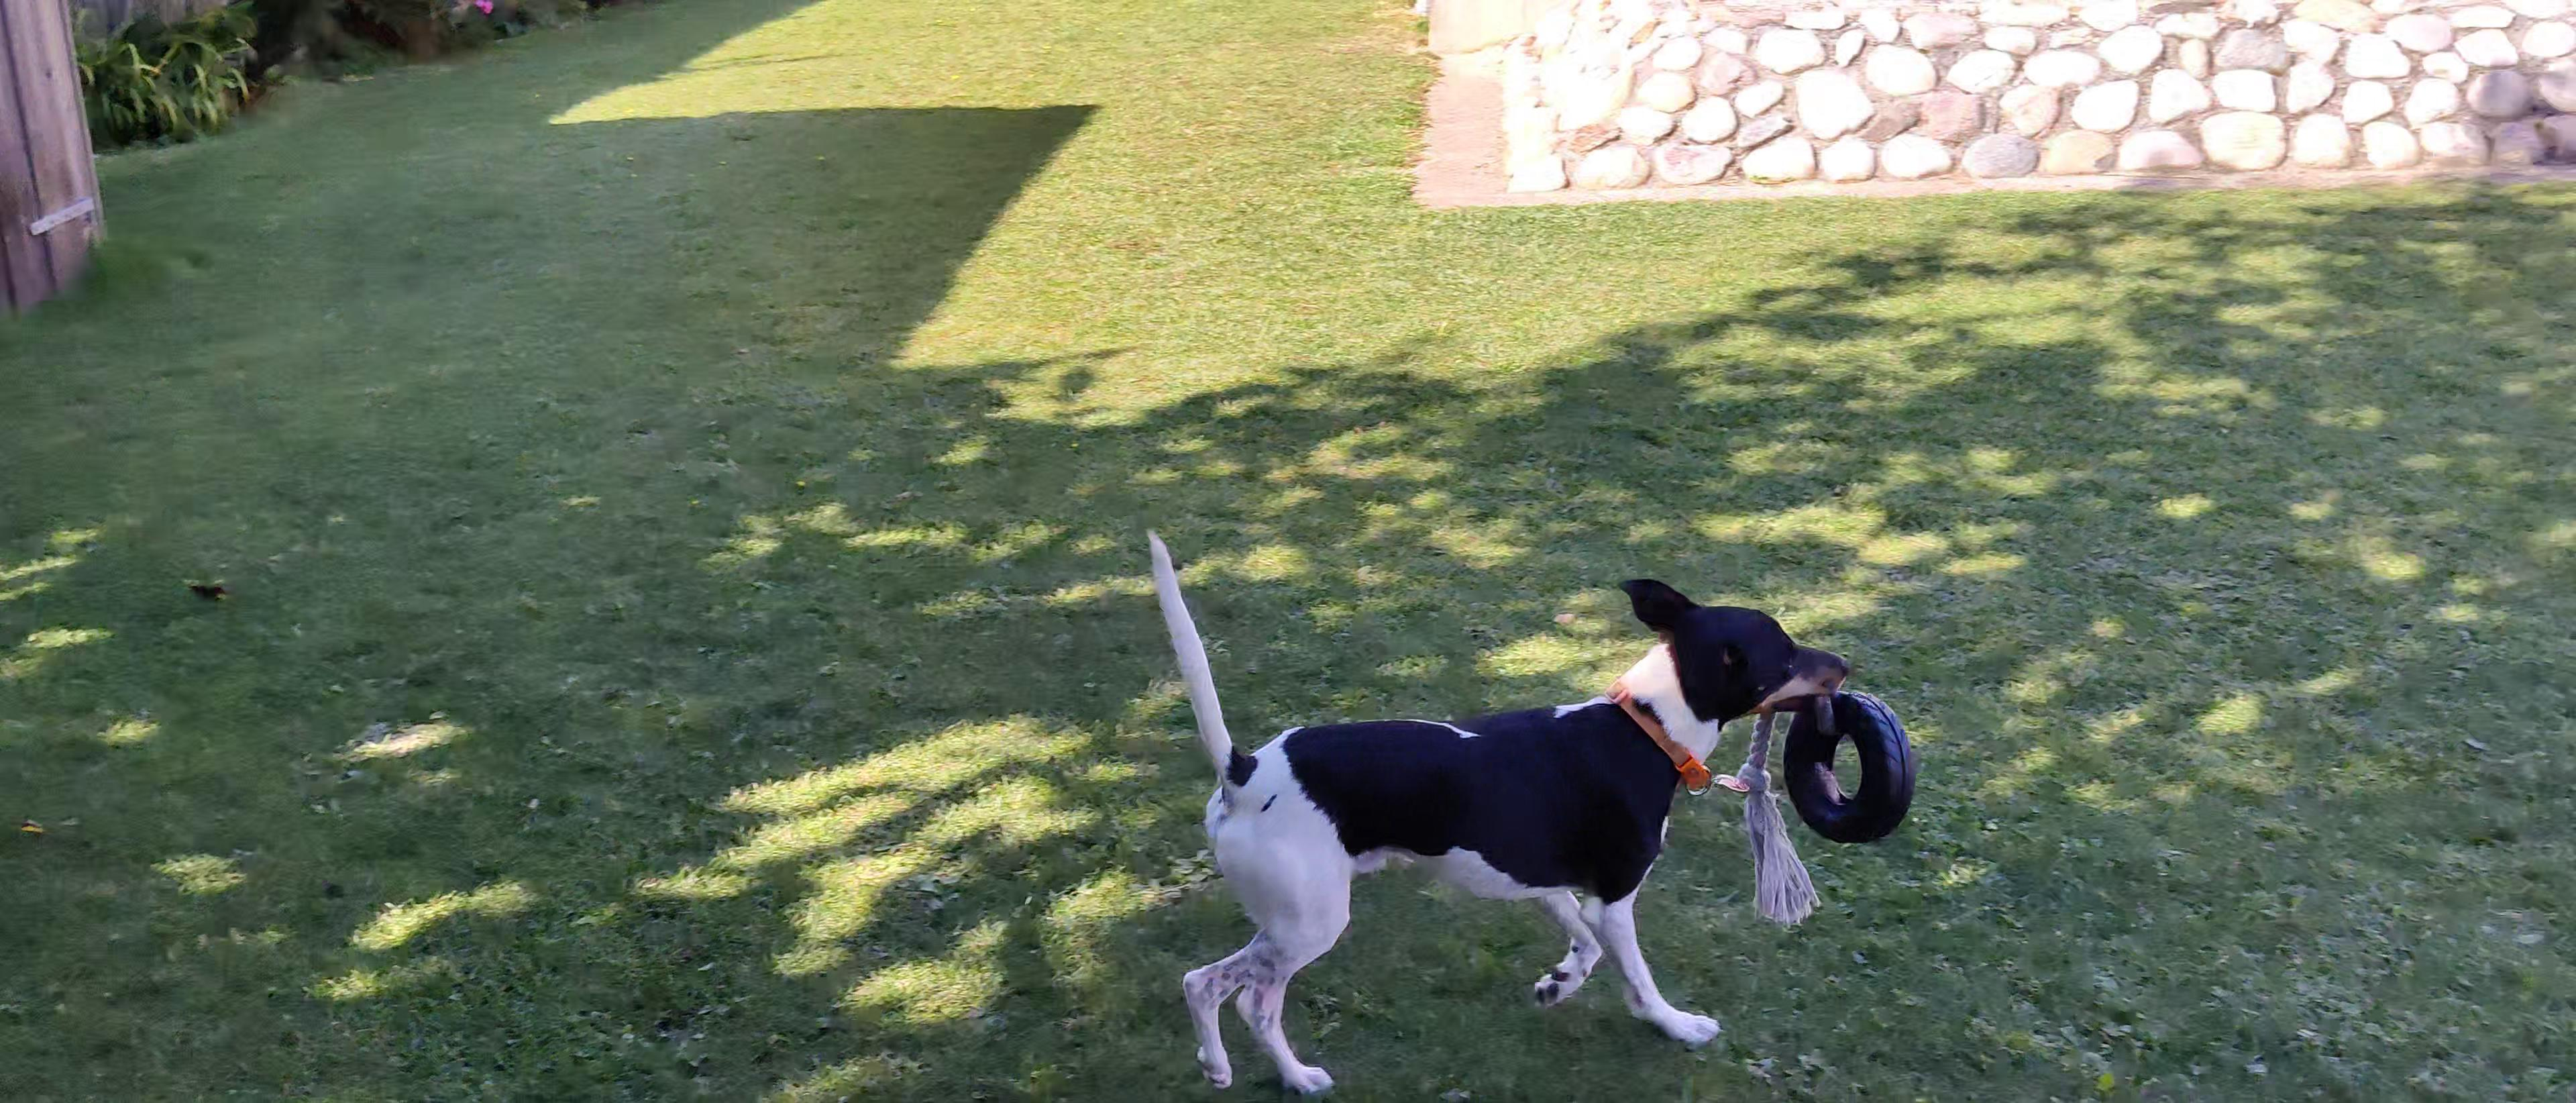Dog: (1112, 482, 1856, 1096)
